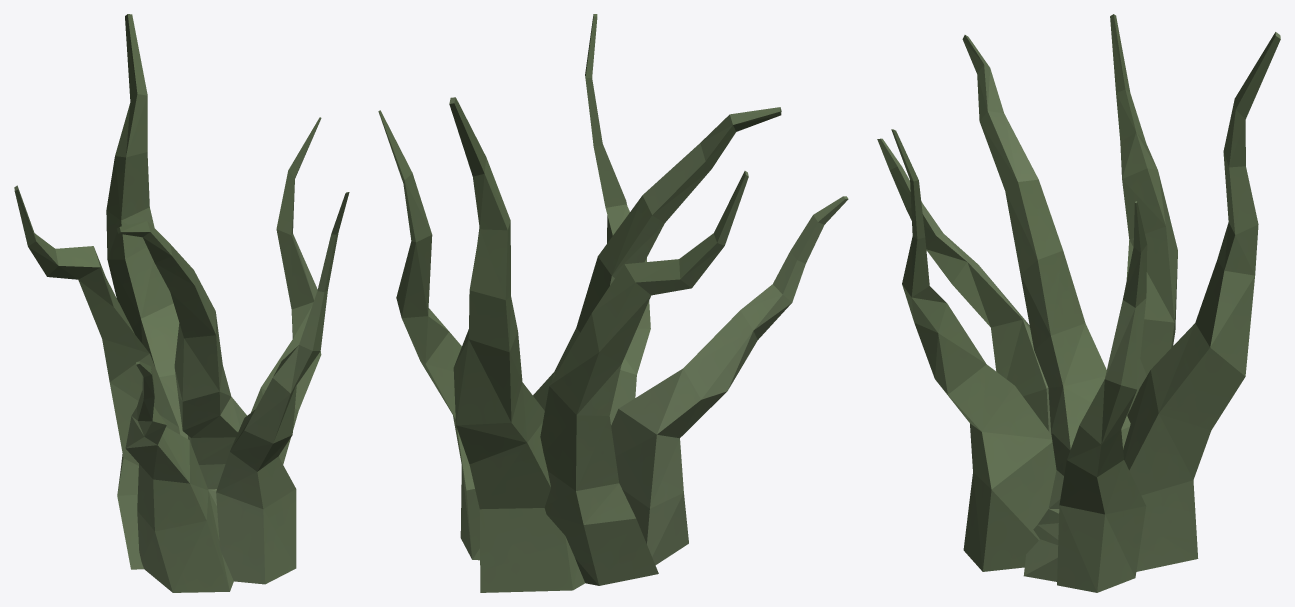
Rendered from grass_green_7.obj.
3 views of the same model, side by side, from view 1: azimuth 30°, elevation 25°; view 2: azimuth 150°, elevation 25°; view 3: azimuth 270°, elevation 25° (orthographic). The views are drawn at different scales.
Visible parts, largest first — view 1: grass_green_7_Mesh; view 2: grass_green_7_Mesh; view 3: grass_green_7_Mesh.
Boxes of the visible parts, <box> form: grass_green_7_Mesh: <box>14,14,349,592</box>; grass_green_7_Mesh: <box>378,14,848,592</box>; grass_green_7_Mesh: <box>877,14,1280,592</box>.
Size of the model in its own units: 0.245 by 0.3448 by 0.2425.
